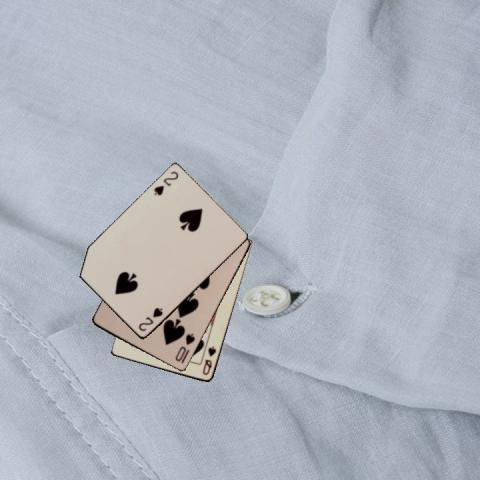10s: (172, 331, 197, 363)
2s: (135, 304, 164, 332), (151, 169, 180, 197)
Qs: (199, 343, 218, 377)
